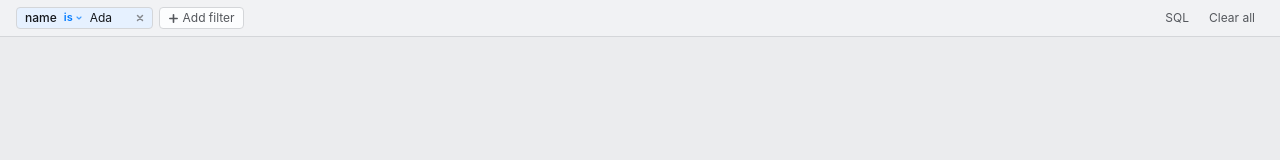
Test: FilterBar › shows the predicate returned by the describe function
Click the button "SQL" at {"x": 1177, "y": 18}, box [1156,7,1198,29]
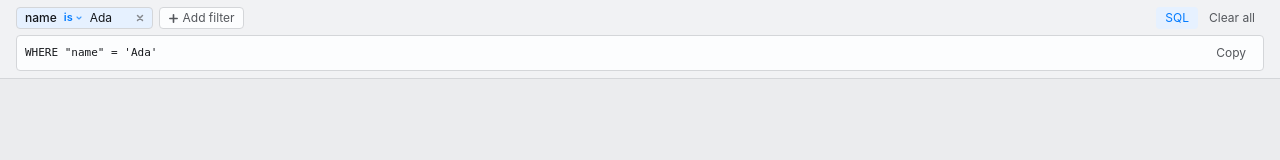
Result: the text "WHERE \"name\" = 'Ada'" is shown at [25,46,158,59]
